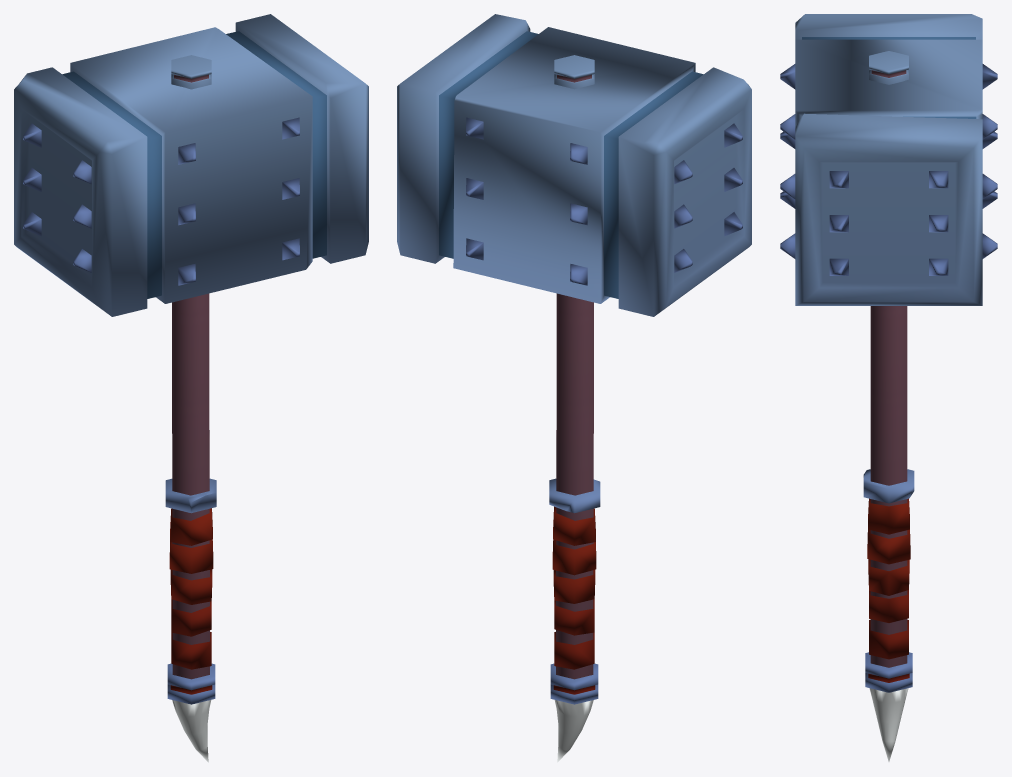
Rendered from Proto_Hammer_01.fbx.
3 views of the same model, side by side, from view 1: azimuth 30°, elevation 25°; view 2: azimuth 150°, elevation 25°; view 3: azimuth 270°, elevation 25° (orthographic).
Visible parts, largest first — view 1: Proto_Hammer_01; view 2: Proto_Hammer_01; view 3: Proto_Hammer_01.
Part boxes in pixels (x1=…): Proto_Hammer_01: x1=14, y1=14, x2=368, y2=762; Proto_Hammer_01: x1=397, y1=14, x2=751, y2=762; Proto_Hammer_01: x1=780, y1=14, x2=997, y2=761.
Size of the model in its own units: 36.13 by 85.21 by 24.15.
